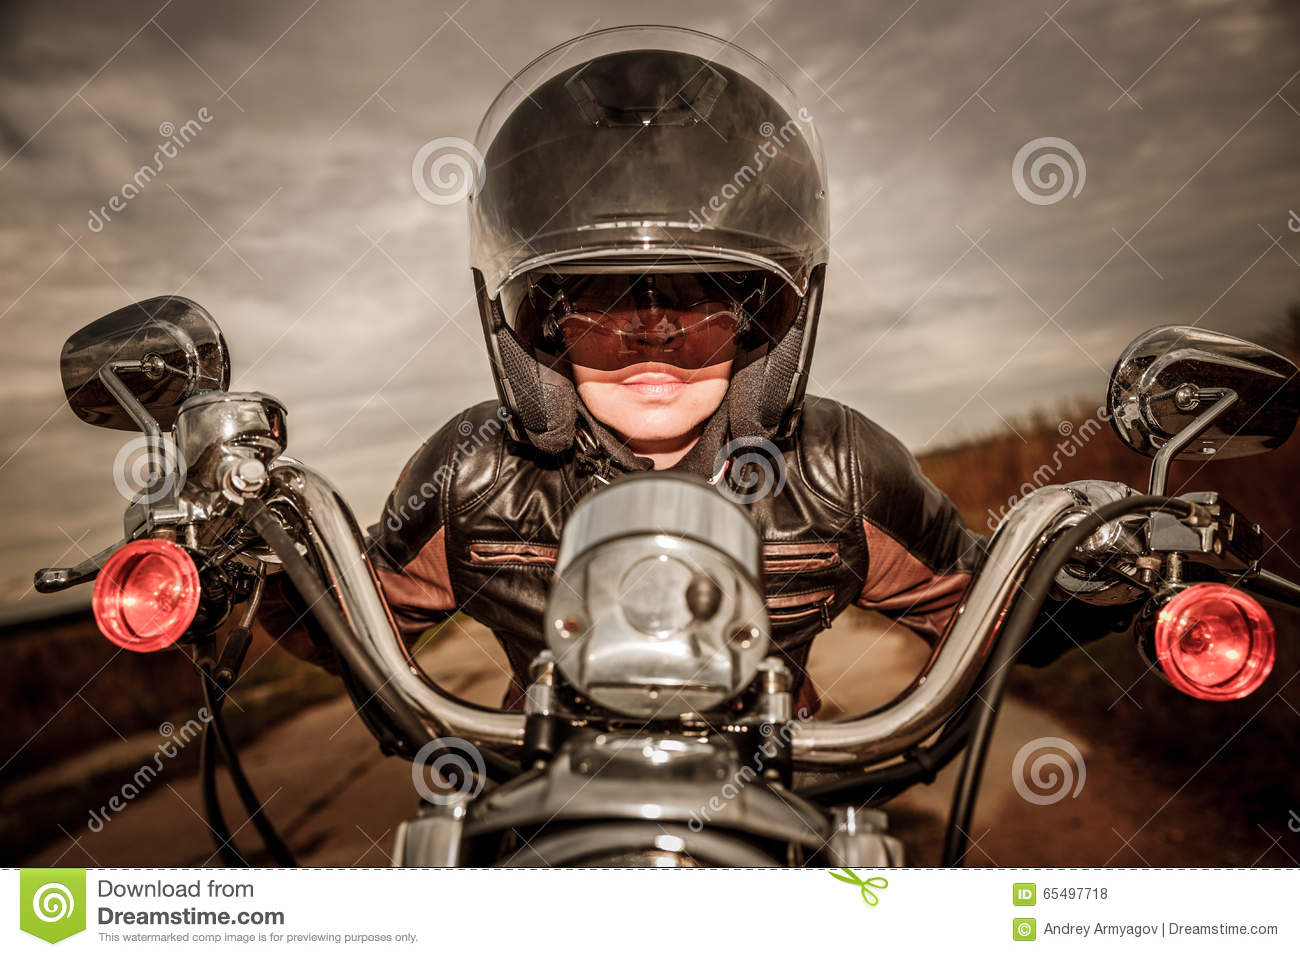helmet: (455, 64, 848, 439)
